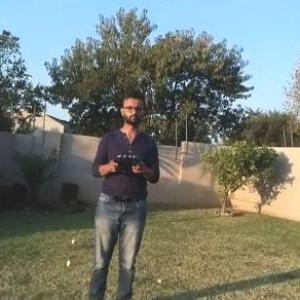follow: (84, 86, 166, 299)
